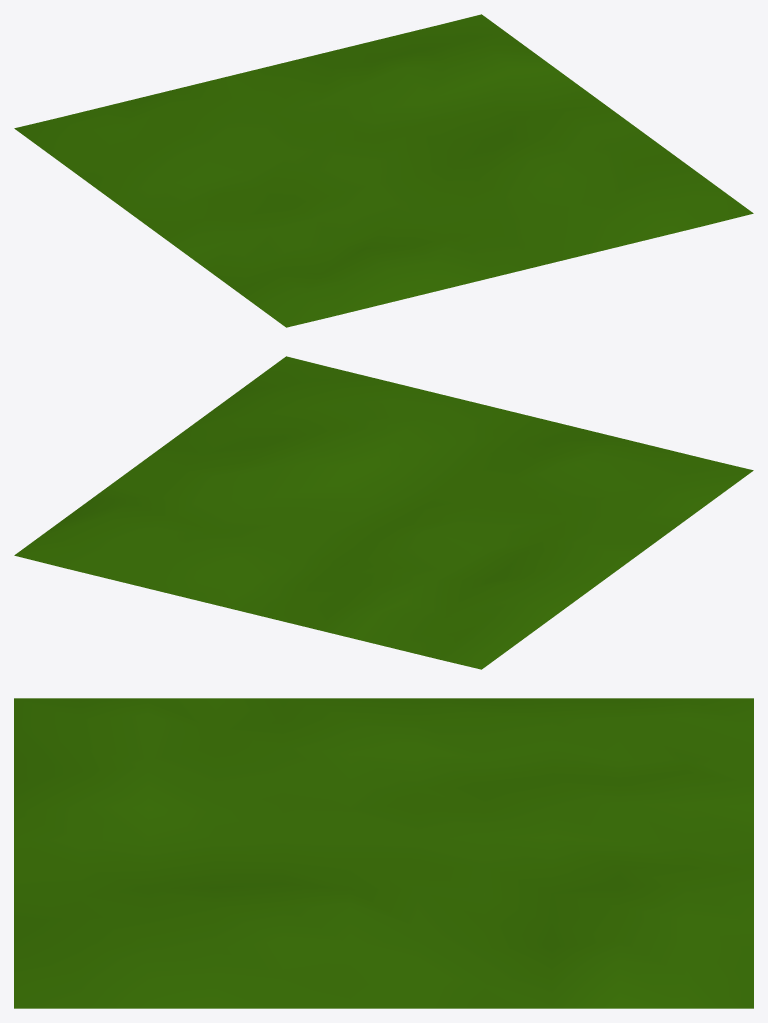
Rendered from Cave Path.fbx.
3 views of the same model, one above another, from view 1: azimuth 30°, elevation 25°; view 2: azimuth 150°, elevation 25°; view 3: azimuth 270°, elevation 25° (orthographic). The views are drawn at different scales.
Visible parts, largest first — view 1: Snow.003; view 2: Snow.003; view 3: Snow.003.
Boxes of the visible parts, box(x1,y1,x2,y2) form: Snow.003: box(14, 14, 753, 327); Snow.003: box(14, 356, 753, 669); Snow.003: box(14, 698, 753, 1008).
Bounding box in the file's own units: 200 × 6.62 × 202.
